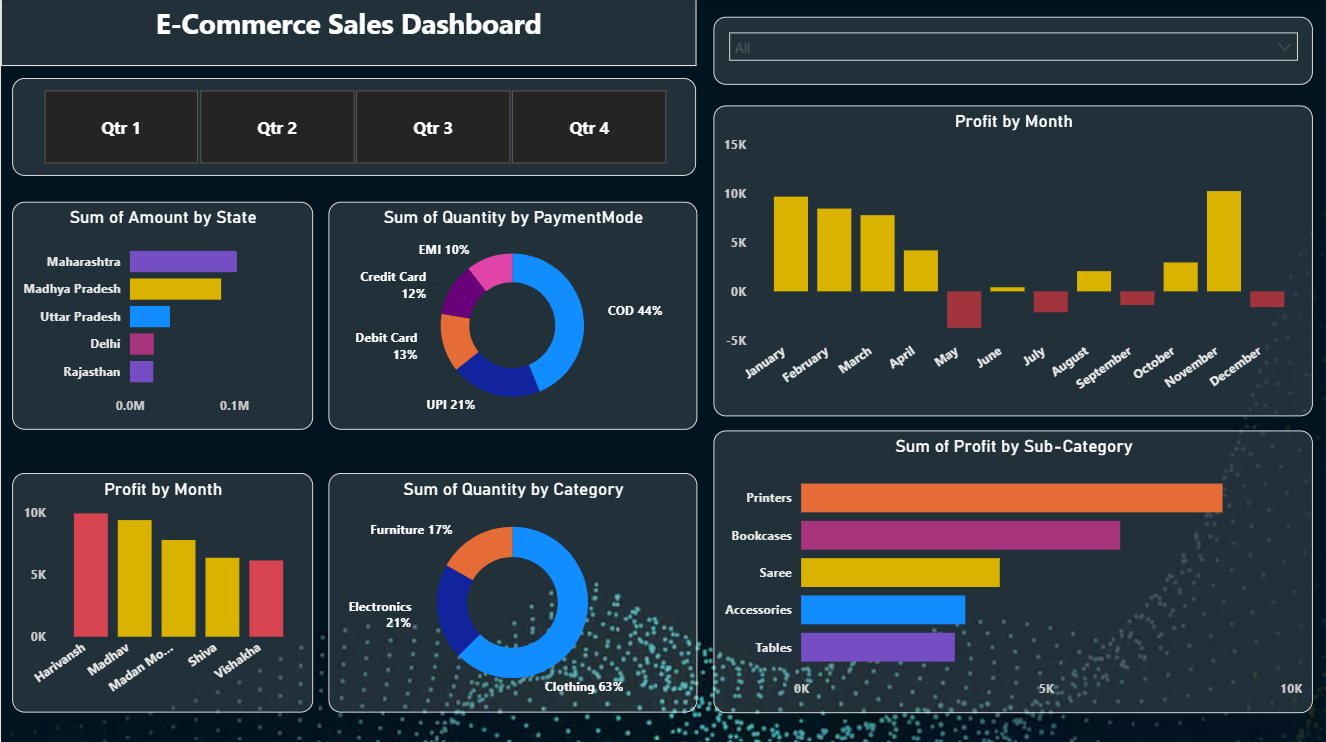

This screenshot's page, from the dashboard's own definition file:
{"tool":"powerbi","page":{"name":"Page 1","canvas":[1280,720],"ordinal":0},"visuals":[{"type":"textbox","box":[0,0,671.4,65.7],"z":0},{"type":"columnChart","title":"Profit by Month","fields":{"Category":["Orders.Order Date.Variation.Date Hierarchy.Month"],"Y":["Sum(Details.Profit)"]},"box":[687.1,104.3,578.6,300],"z":1000},{"type":"barChart","fields":{"Category":["Details.Sub-Category"],"Y":["Sum(Details.Profit)"]},"box":[687.1,417.1,578.6,272.9],"z":2000},{"type":"donutChart","fields":{"Category":["Details.Category"],"Y":["Sum(Details.Quantity)"]},"box":[315.7,458.6,355.7,231.4],"z":3000},{"type":"donutChart","fields":{"Y":["Sum(Details.Quantity)"],"Category":["Details.PaymentMode"]},"box":[315.7,197.1,355.7,220],"z":4000},{"type":"barChart","fields":{"Category":["Orders.State"],"Y":["Sum(Details.Amount)"]},"box":[11.4,197.1,290,220],"z":5000},{"type":"columnChart","title":"Profit by Month","fields":{"Category":["Orders.CustomerName"],"Y":["Sum(Details.Amount)"]},"box":[11.4,458.6,290,231.4],"z":6000},{"type":"slicer","fields":{"Values":["Orders.Order Date.Variation.Date Hierarchy.Quarter"]},"box":[11.4,77.1,660,94.3],"z":7000},{"type":"slicer","fields":{"Values":["Orders.State"]},"box":[687.1,18.6,578.6,65.7],"z":8000}]}

Visuals, with their boxes in screenshot pixels (x1, y1, x2, y2), scaled from the page's 1280x720 canvas onto the 1326x742 screenshot:
textbox: [left=0, top=0, right=696, bottom=68]
"Profit by Month" columnChart: [left=712, top=107, right=1311, bottom=417]
barChart - Details.Sub-Category x Sum(Details.Profit): [left=712, top=430, right=1311, bottom=711]
donutChart - Details.Category x Sum(Details.Quantity): [left=327, top=473, right=696, bottom=711]
donutChart - Sum(Details.Quantity) x Details.PaymentMode: [left=327, top=203, right=696, bottom=430]
barChart - Orders.State x Sum(Details.Amount): [left=12, top=203, right=312, bottom=430]
"Profit by Month" columnChart: [left=12, top=473, right=312, bottom=711]
slicer - Orders.Order Date.Variation.Date Hierarchy.Quarter: [left=12, top=79, right=696, bottom=177]
slicer - Orders.State: [left=712, top=19, right=1311, bottom=87]
